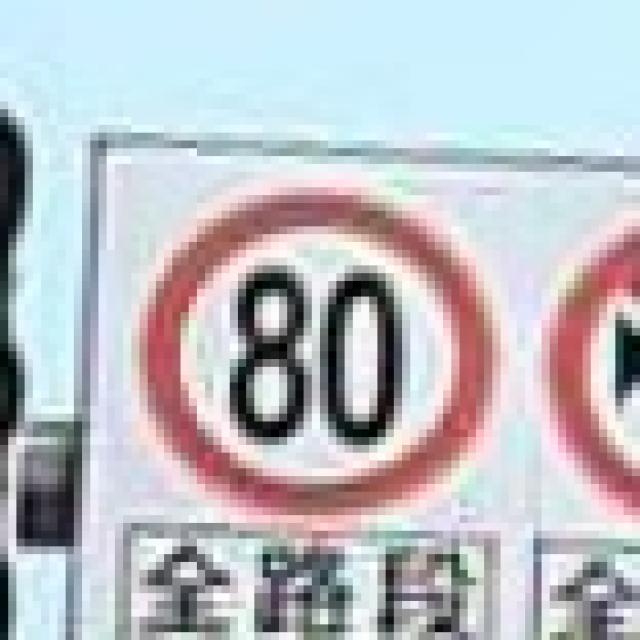Speed Limit -80-: (223, 262, 408, 446)
